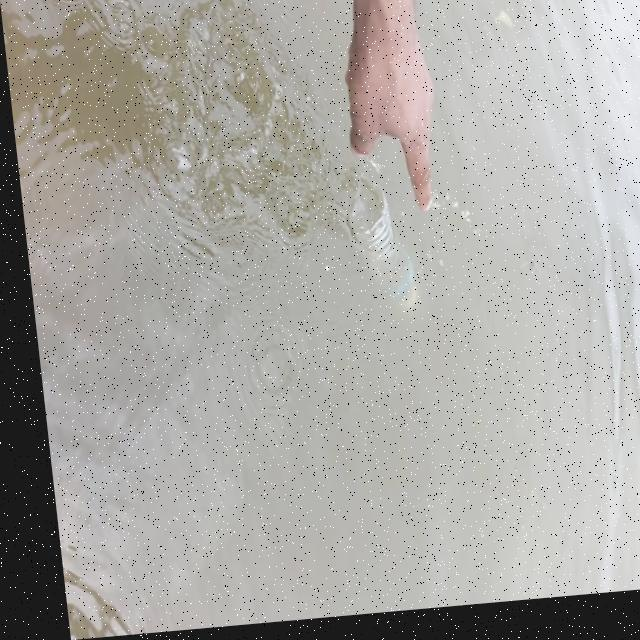waterbottle: (324, 174, 416, 342)
